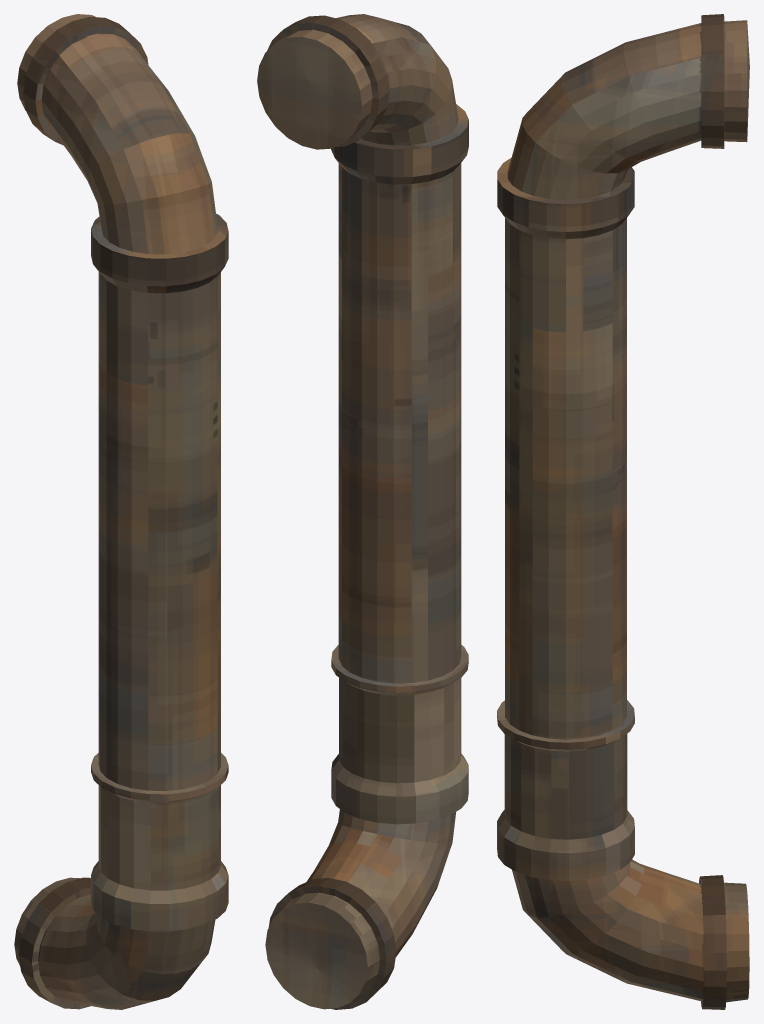
The model's file is Metal_Pipe.fbx.
3 renders of one model, left to right at view 1: azimuth 30°, elevation 25°; view 2: azimuth 150°, elevation 25°; view 3: azimuth 270°, elevation 25°, orthographic.
Visible parts, largest first — view 1: cylinder, cylinder_1; view 2: cylinder, cylinder_1; view 3: cylinder, cylinder_1.
Part boxes in pixels (box(x1,y1,x2,y2)): cylinder: box(17, 14, 228, 790); cylinder_1: box(14, 753, 228, 1009); cylinder: box(257, 14, 468, 683); cylinder_1: box(265, 645, 468, 1009); cylinder: box(497, 14, 749, 739); cylinder_1: box(497, 700, 749, 1009).
Bounding box in the file's own units: 118 × 892 × 207.
Materials: 1 (1 with a texture image).
